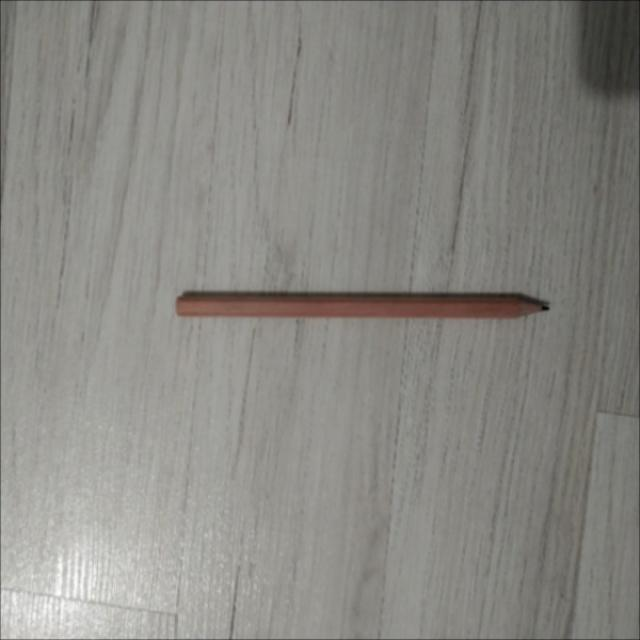pencil: (176, 295, 548, 318)
